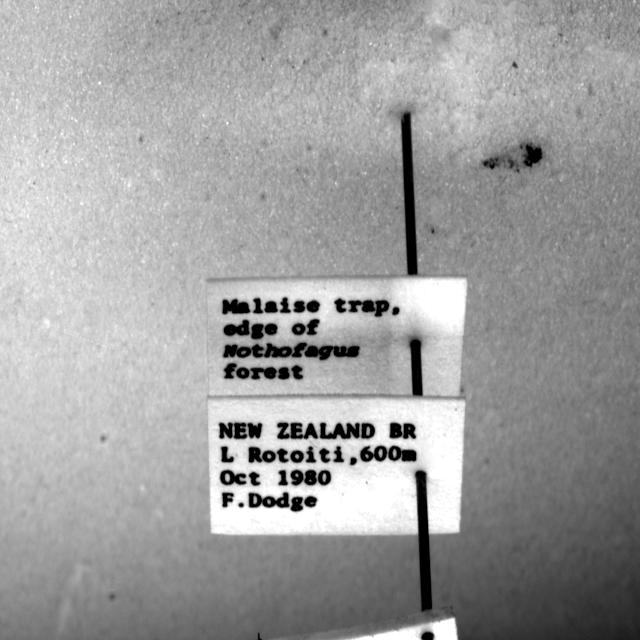typed_label: (208, 398, 465, 534), (208, 276, 466, 398)
